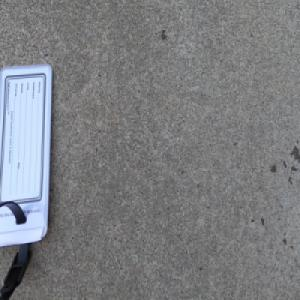LuggageTag: (0, 60, 54, 300)
